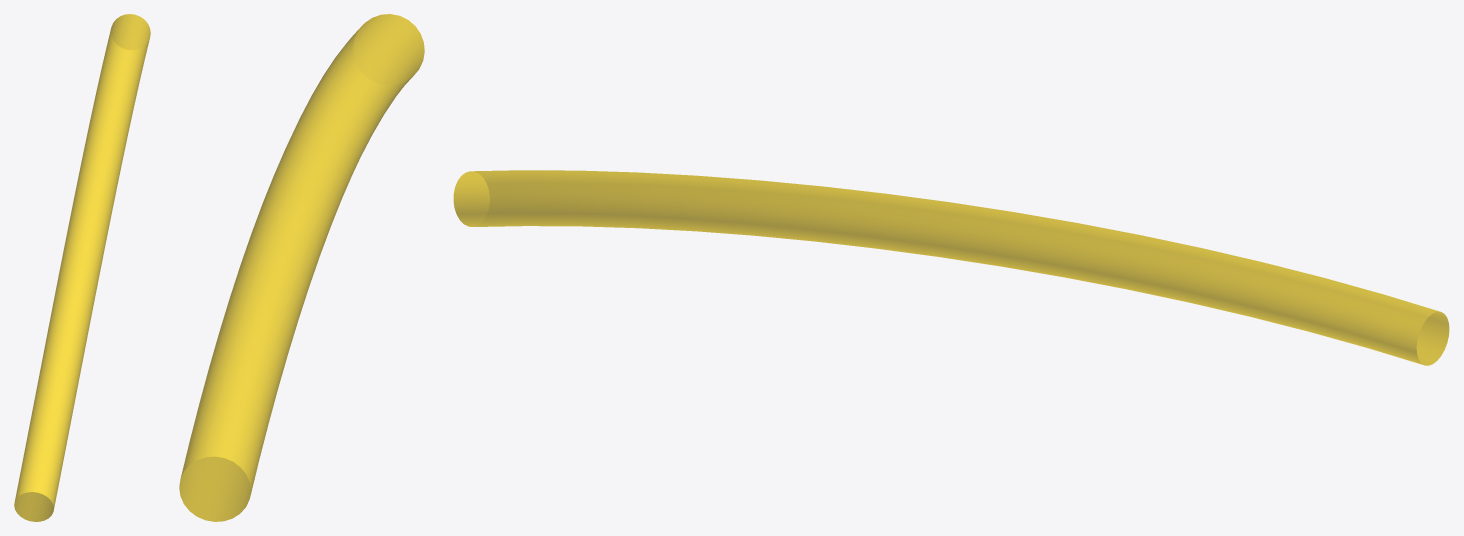
The model's file is Event_75125125_track_28.fbx.
The picture shows the model from 3 angles, left to right: view 1: azimuth 30°, elevation 25°; view 2: azimuth 210°, elevation 25°; view 3: azimuth 270°, elevation 25°; orthographic projection. The views are drawn at different scales.
Visible parts, largest first — view 1: Model; view 2: Model; view 3: Model.
Part boxes in pixels (<box>): Model: <box>14,14,150,521</box>; Model: <box>179,14,424,521</box>; Model: <box>453,170,1449,365</box>.
Size of the model in its own units: 0.5398 by 0.1658 by 0.7109.
